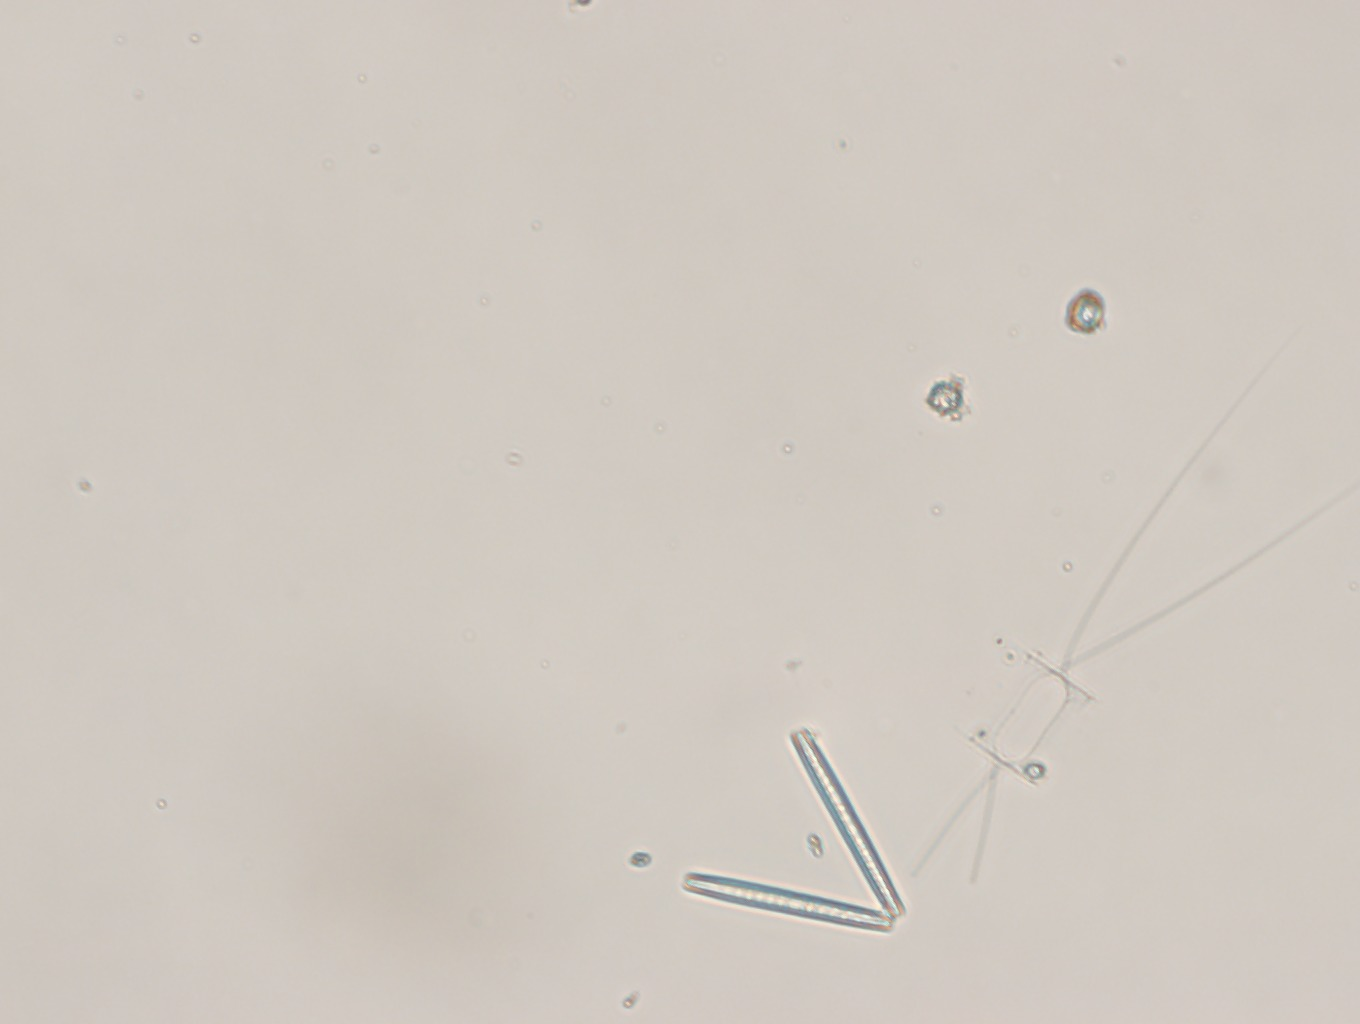chaetoceros: (894, 302, 1356, 916)
thalassionema nitzschioides: (677, 720, 912, 945)
